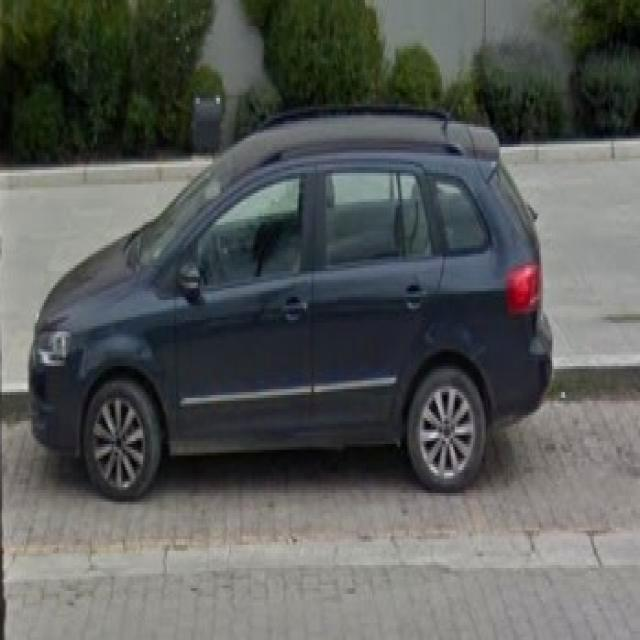Car: (26, 128, 554, 506)
